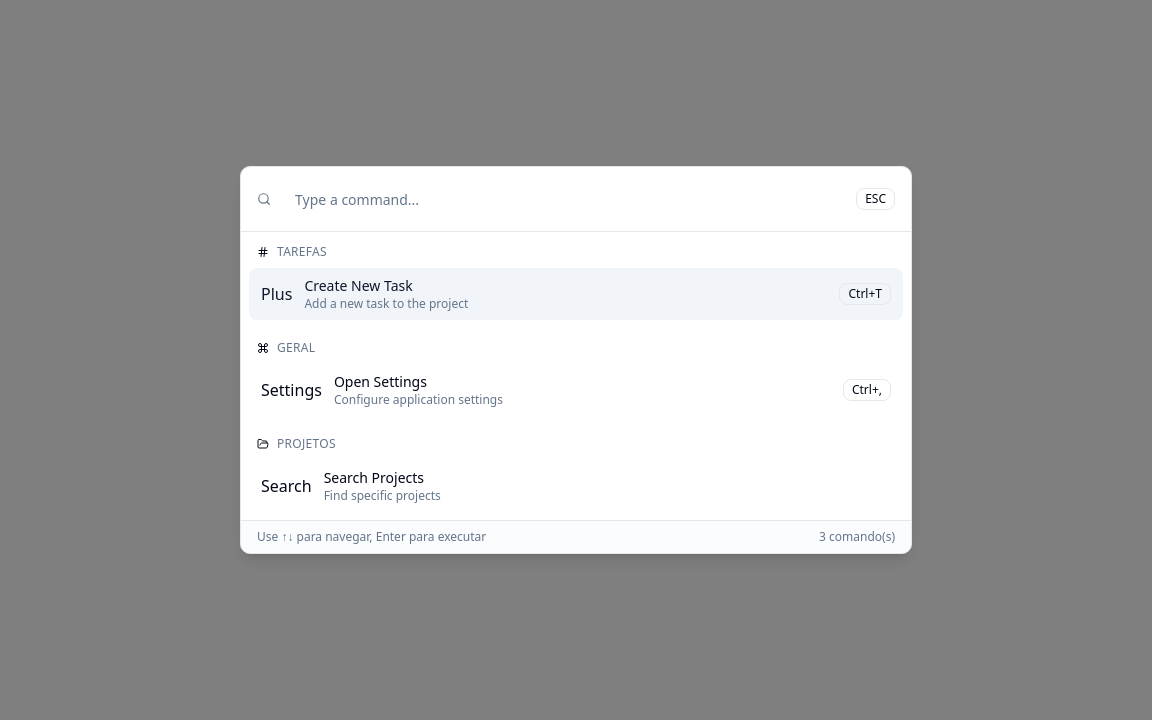
Scenario: CommandPalette › should filter actions based on keywords
Step 1. Type "config" into the field with placeholder "Type a command..." → (566, 199), box [283,179,848,219]
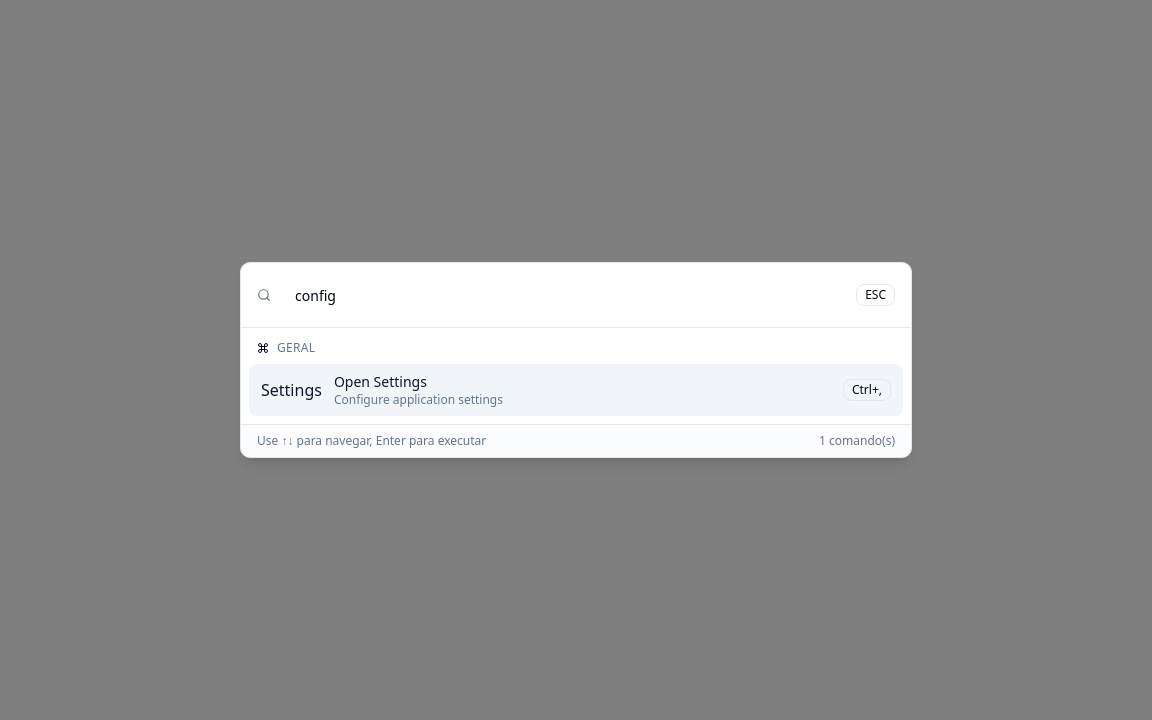
expect the text "Open Settings" is shown: met, box [334,372,427,391]
expect the text "Create New Task" is gone: met
expect the text "Search Projects" is gone: met
